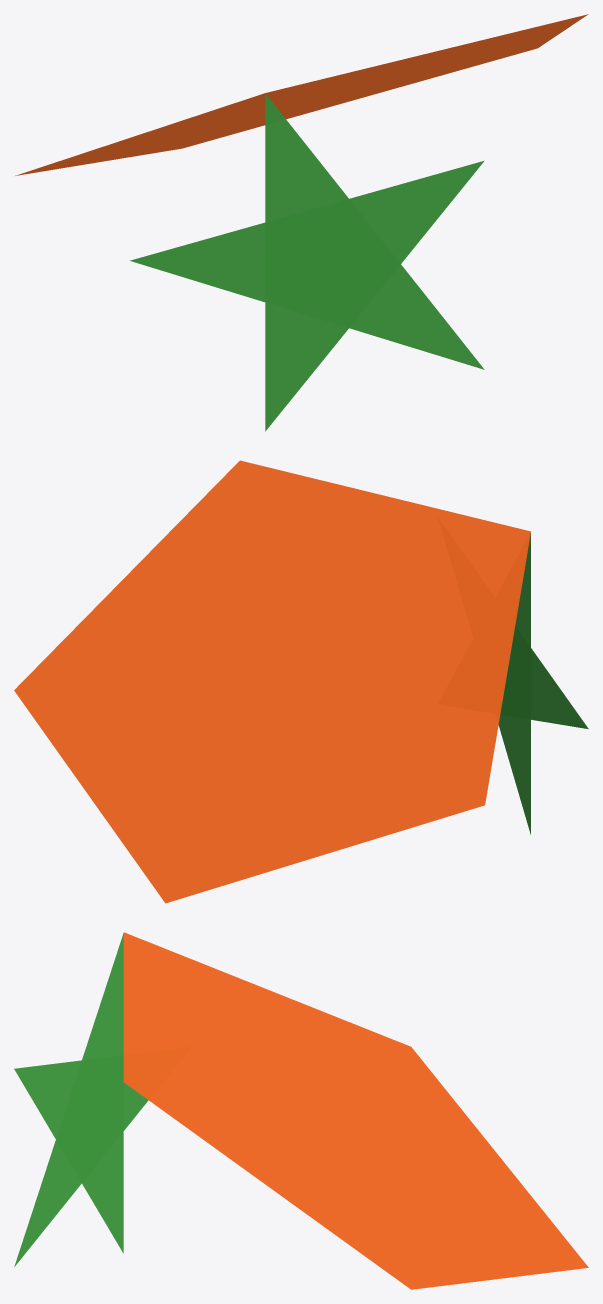
Rendered from DitrigonalDodecadodecahedronF.obj.
3 renders of one model, top to bottom at view 1: azimuth 30°, elevation 25°; view 2: azimuth 150°, elevation 25°; view 3: azimuth 270°, elevation 25°, orthographic. The views are drawn at different scales.
Bounding box in the file's own units: 1.62 × 1 × 1.62.
